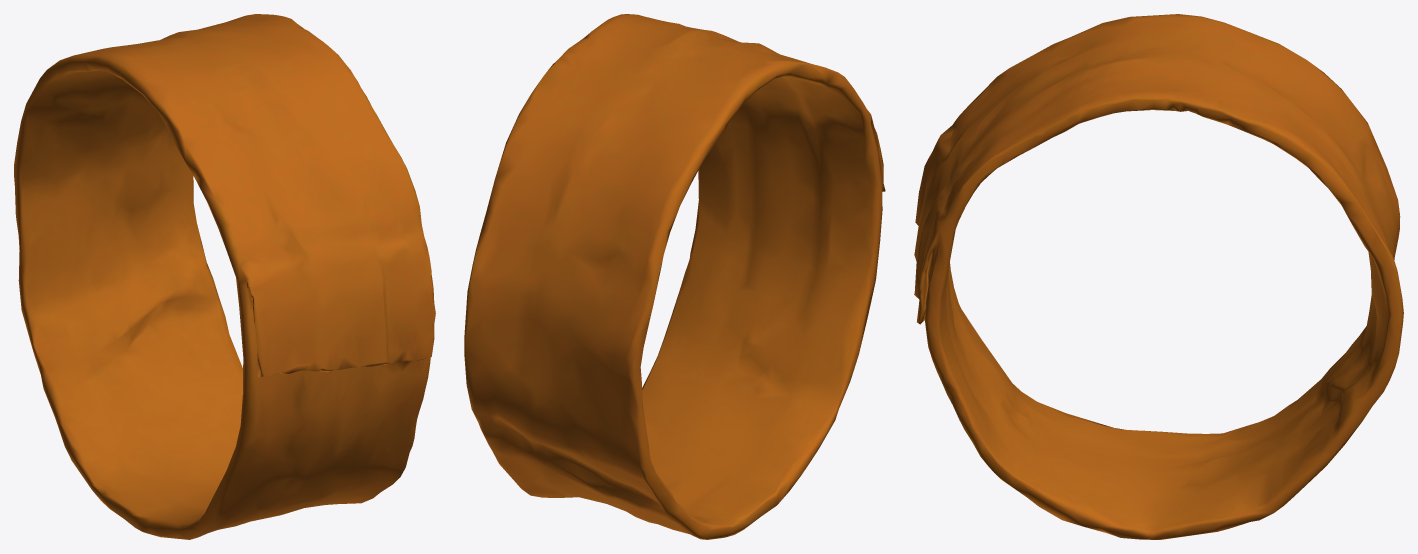
File: 30_PPE_C_GripTape_01 1.fbx
3 renders of one model, left to right at view 1: azimuth 30°, elevation 25°; view 2: azimuth 150°, elevation 25°; view 3: azimuth 270°, elevation 25°, orthographic. The views are drawn at different scales.
Visible parts, largest first — view 1: tripo_node_82d829a3; view 2: tripo_node_82d829a3; view 3: tripo_node_82d829a3.
Part boxes in pixels (<box>): tripo_node_82d829a3: <box>14,14,435,539</box>; tripo_node_82d829a3: <box>464,14,885,539</box>; tripo_node_82d829a3: <box>914,14,1403,539</box>.
Bounding box in the file's own units: 0.43 × 0.9798 × 0.9782.
